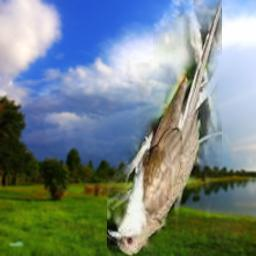Cuckoo: (107, 0, 222, 256)
